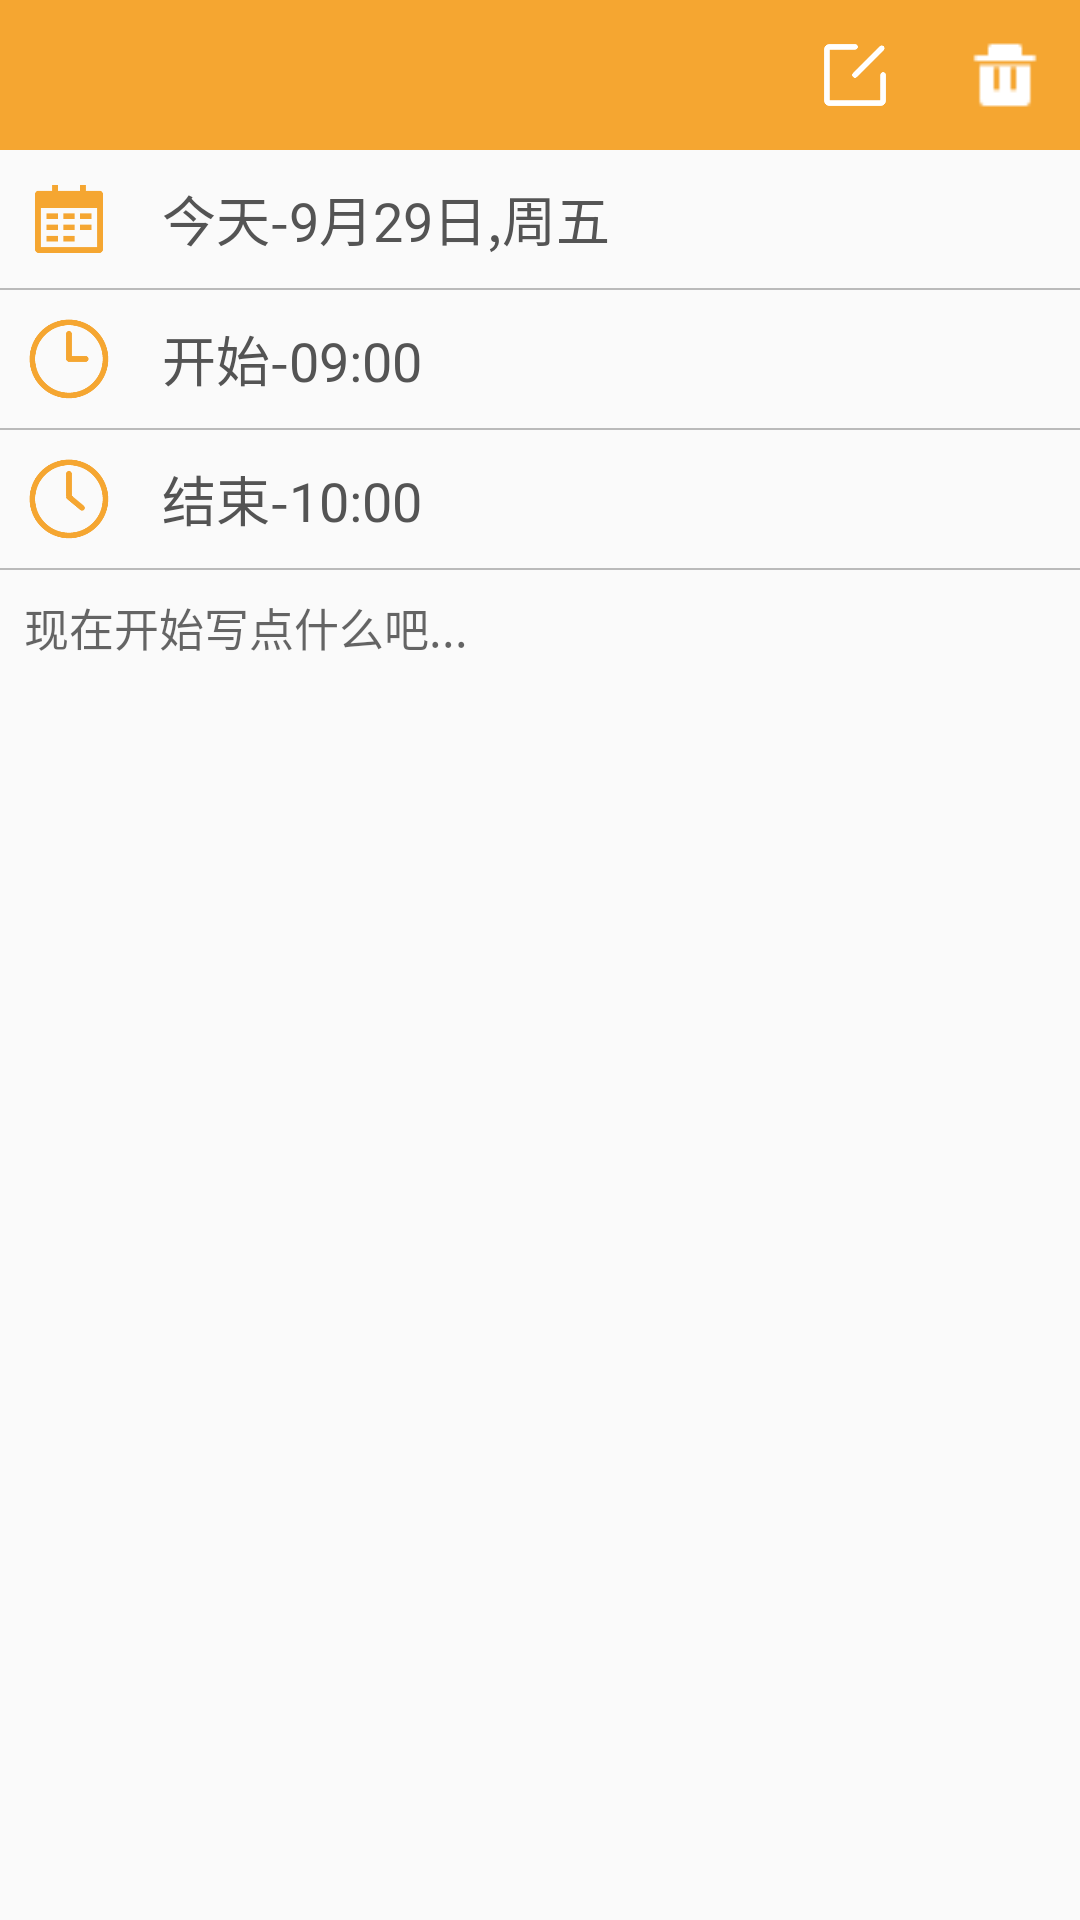

Icons on this 1080x1920 Android screen, each with its box as (x1, y1, x2, y2):
date: (35, 185, 103, 253)
delete: (973, 43, 1037, 107)
edit: (824, 44, 886, 106)
time: (29, 319, 109, 399)
time finish: (29, 459, 109, 539)
